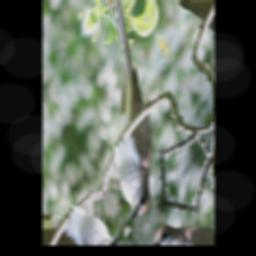Cuckoo: (52, 0, 202, 228)
